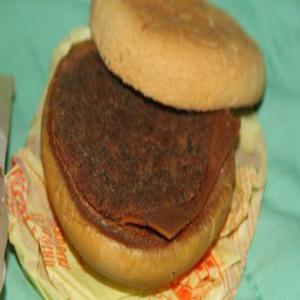cheeseburger_475cal: (33, 2, 273, 285)
